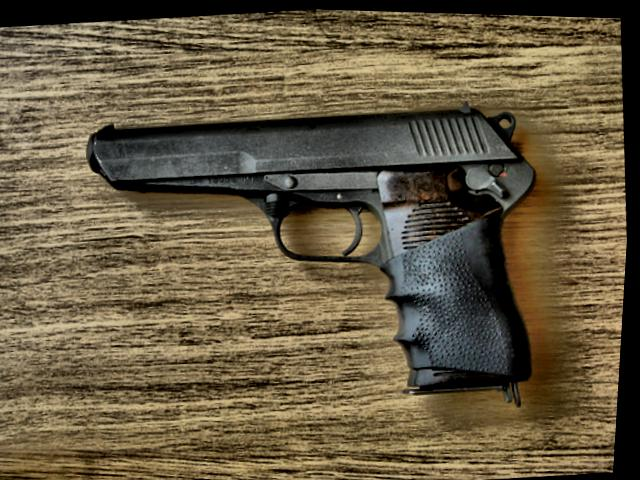pistol: (69, 83, 561, 420)
